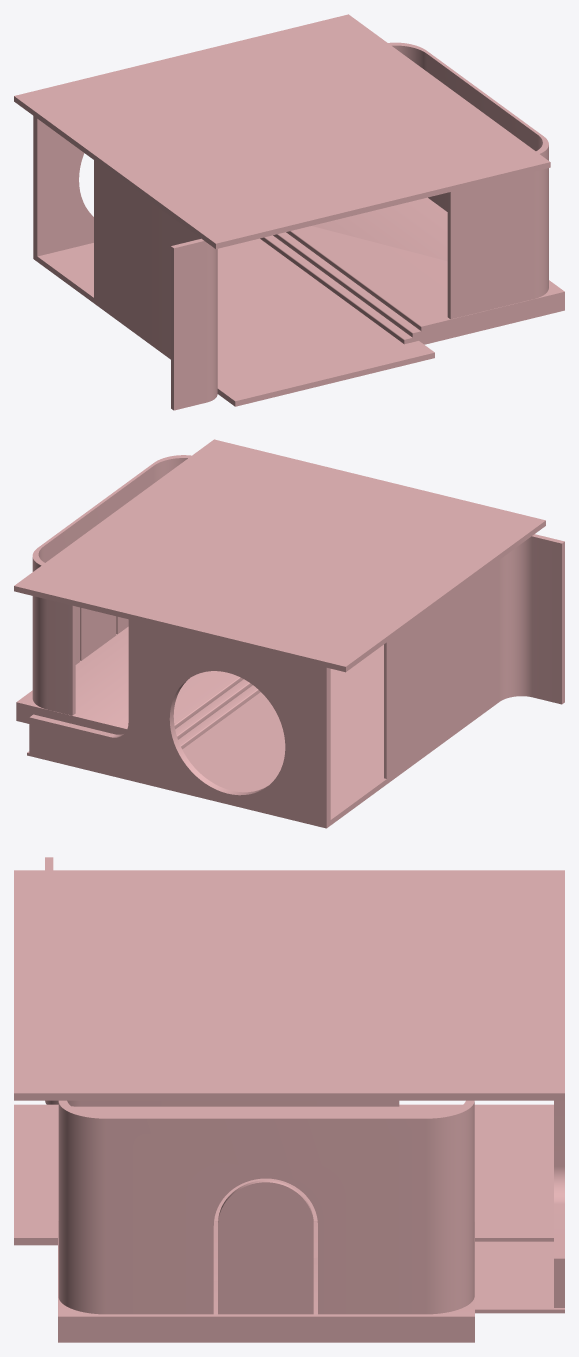
File: block_folly_2.glb
3 renders of one model, top to bottom at view 1: azimuth 30°, elevation 25°; view 2: azimuth 150°, elevation 25°; view 3: azimuth 270°, elevation 25°, orthographic. The views are drawn at different scales.
Parts seen in each view (by area): view 1: Folly_block_2; view 2: Folly_block_2; view 3: Folly_block_2.
Part boxes in pixels (x1,y1,x2,y2): Folly_block_2: (14,14,564,410); Folly_block_2: (14,439,564,828); Folly_block_2: (14,857,564,1342).
Size of what is drawn, in the model's own units: 15.85 by 6.42 by 14.
